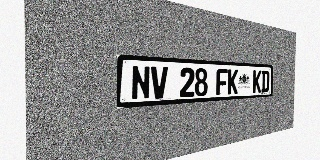2: (180, 67, 194, 97)
8: (195, 68, 208, 96)
D: (261, 70, 269, 92)
F: (216, 69, 228, 95)
K: (227, 69, 238, 94), (253, 70, 261, 93)
N: (131, 65, 150, 100)
V: (151, 66, 168, 99)
